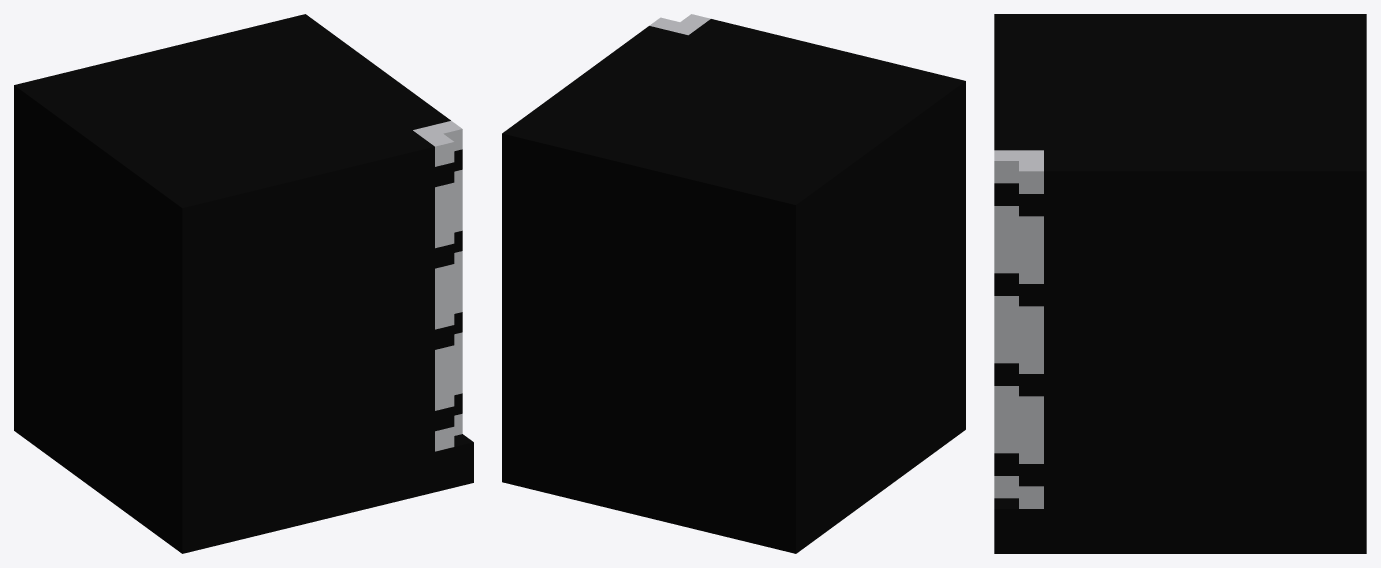
Rendered from dungeon_d_b_outer_wall_corner_c.obj.
The picture shows the model from 3 angles, left to right: view 1: azimuth 30°, elevation 25°; view 2: azimuth 150°, elevation 25°; view 3: azimuth 270°, elevation 25°; orthographic projection. The views are drawn at different scales.
Bounding box in the file's own units: 1.5 × 1.7 × 1.5.
Materials: 1 (1 with a texture image).
